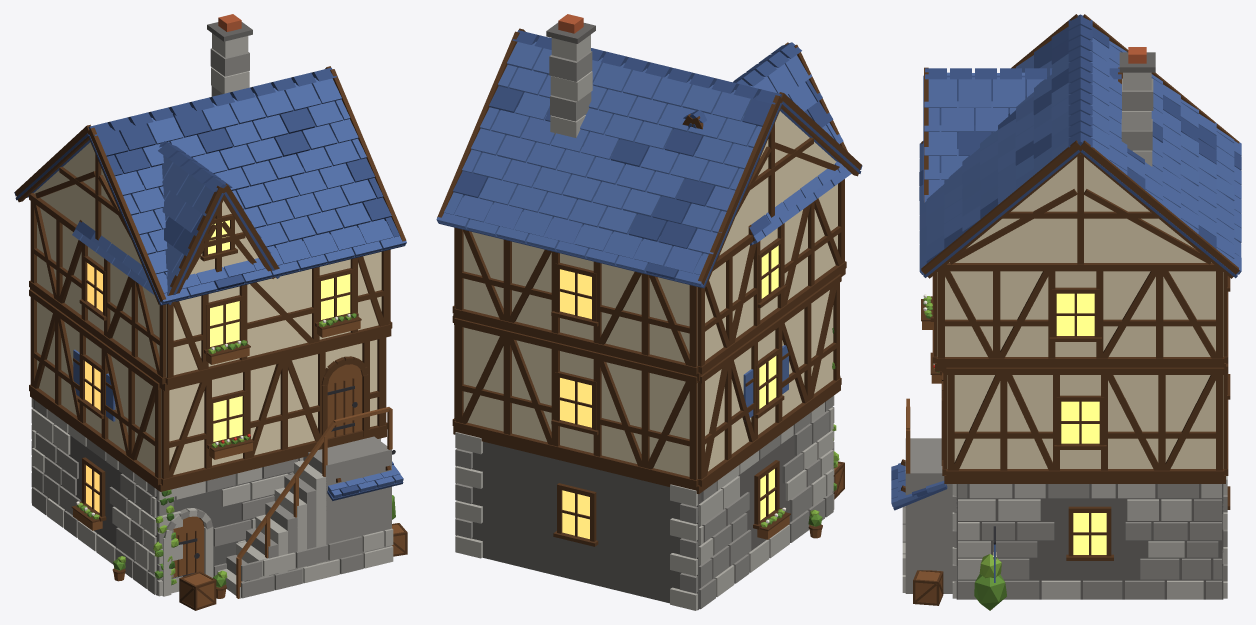
File: Town_05_BlueStair.fbx
3 views of the same model, side by side, from view 1: azimuth 30°, elevation 25°; view 2: azimuth 150°, elevation 25°; view 3: azimuth 270°, elevation 25° (orthographic). The views are drawn at different scales.
Parts seen in each view (by area): view 1: Town_05_BlueStair_LOD0; view 2: Town_05_BlueStair_LOD0; view 3: Town_05_BlueStair_LOD0.
Boxes of the visible parts, x1,y1,x2,y2 form: Town_05_BlueStair_LOD0: (14, 14, 407, 610); Town_05_BlueStair_LOD0: (436, 14, 862, 610); Town_05_BlueStair_LOD0: (891, 14, 1241, 610).
Size of what is drawn, in the model's own units: 7.15 by 11.99 by 7.37.
